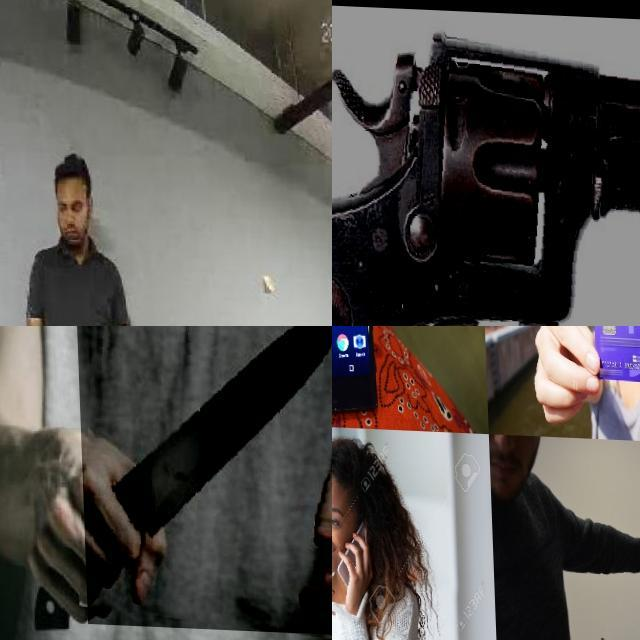-: (72, 326, 332, 631)
gun-knife-thesis - v11 Yolov5 augmented: (332, 0, 640, 326)
